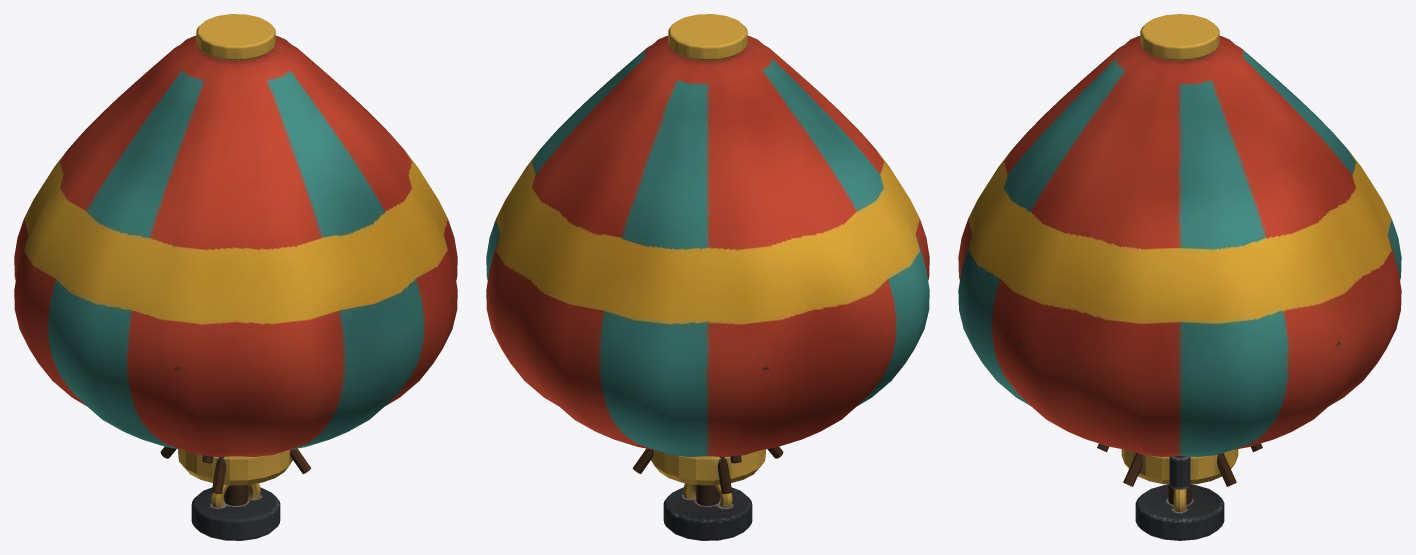
Rendered from balloon-v001.glb.
3 views of the same model, side by side, from view 1: azimuth 30°, elevation 25°; view 2: azimuth 150°, elevation 25°; view 3: azimuth 270°, elevation 25° (orthographic).
Visible parts, largest first — view 1: Balloon; view 2: Balloon; view 3: Balloon.
Boxes of the visible parts, x1,y1,x2,y2 form: Balloon: (14,14,457,540); Balloon: (486,14,929,540); Balloon: (958,14,1401,540).
Size of the model in its own units: 0.5709 by 0.702 by 0.5709.
1 material, 1 textured.
